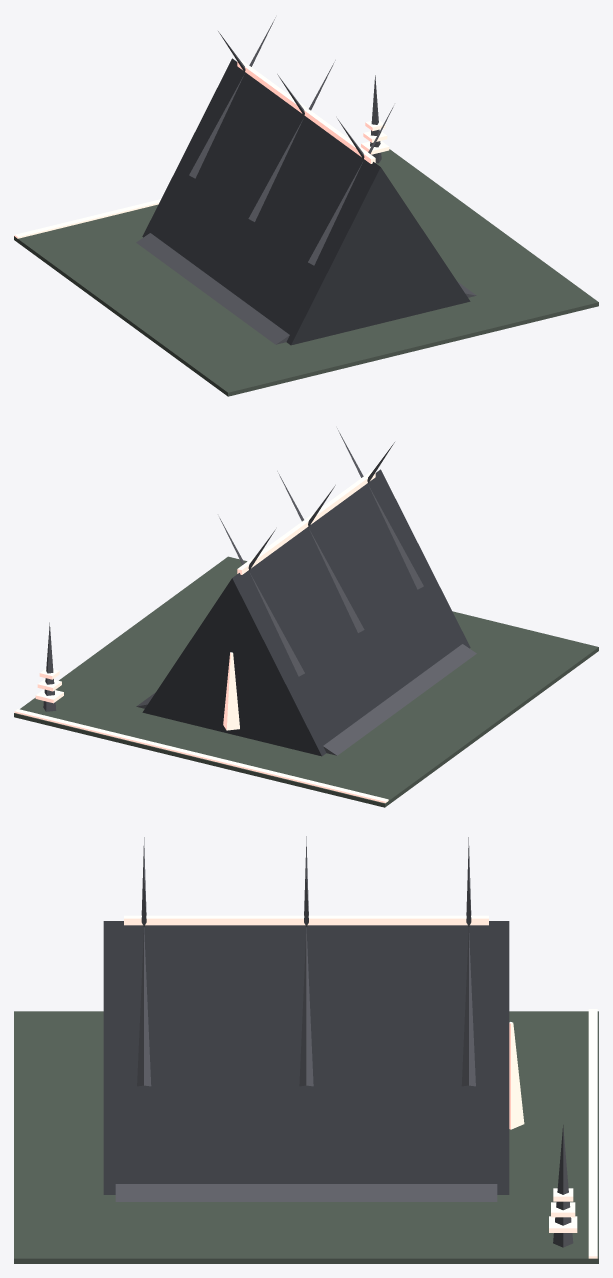
File: zone_low_3_t3.glb
3 views of the same model, one above another, from view 1: azimuth 30°, elevation 25°; view 2: azimuth 150°, elevation 25°; view 3: azimuth 270°, elevation 25° (orthographic). The views are drawn at different scales.
Visible parts, largest first — view 1: zone_low_3_t3, detail; view 2: zone_low_3_t3, detail; view 3: zone_low_3_t3, detail.
Part boxes in pixels (x1=…): zone_low_3_t3: x1=14, y1=17, x2=598, y2=396; detail: x1=14, y1=75, x2=389, y2=238; zone_low_3_t3: x1=14, y1=428, x2=598, y2=807; detail: x1=14, y1=622, x2=388, y2=803; zone_low_3_t3: x1=14, y1=836, x2=598, y2=1263; detail: x1=549, y1=1009, x2=597, y2=1258.
Bounding box in the file's own units: 19.6 × 10.5 × 19.6.
